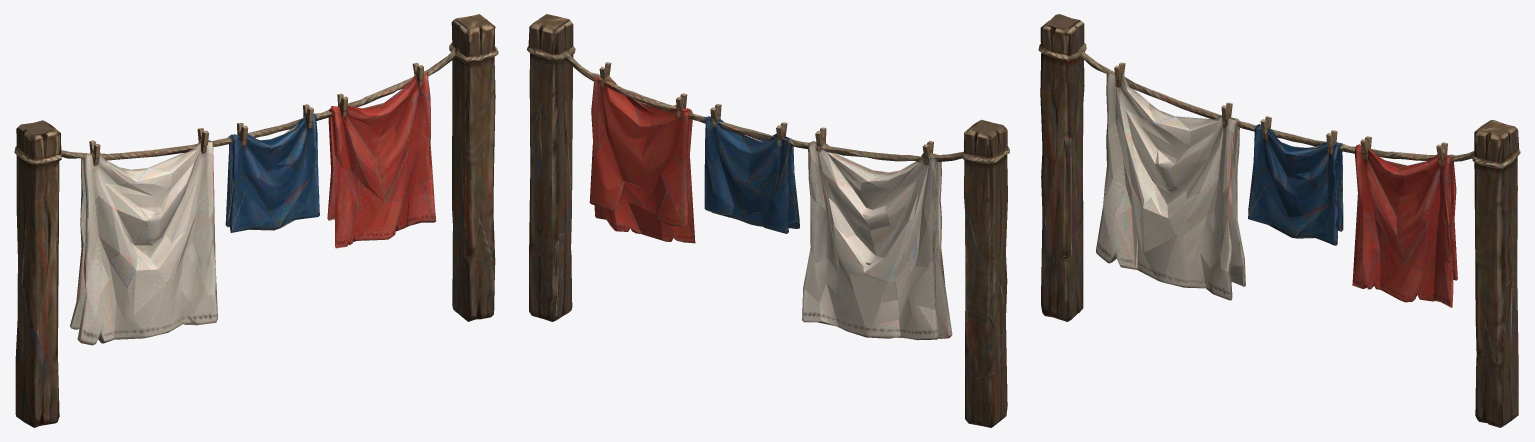
The model's file is laundry_3d.glb.
The picture shows the model from 3 angles, left to right: view 1: azimuth 30°, elevation 25°; view 2: azimuth 150°, elevation 25°; view 3: azimuth 330°, elevation 25°; orthographic projection.
Visible parts, largest first — view 1: Mesh_0; view 2: Mesh_0; view 3: Mesh_0.
Boxes of the visible parts, bbox=[...] form: Mesh_0: bbox=[14, 14, 498, 427]; Mesh_0: bbox=[527, 14, 1009, 427]; Mesh_0: bbox=[1038, 14, 1520, 427].
Bounding box in the file's own units: 2.31 × 1.38 × 0.1823.
Materials: 1 (1 with a texture image).
